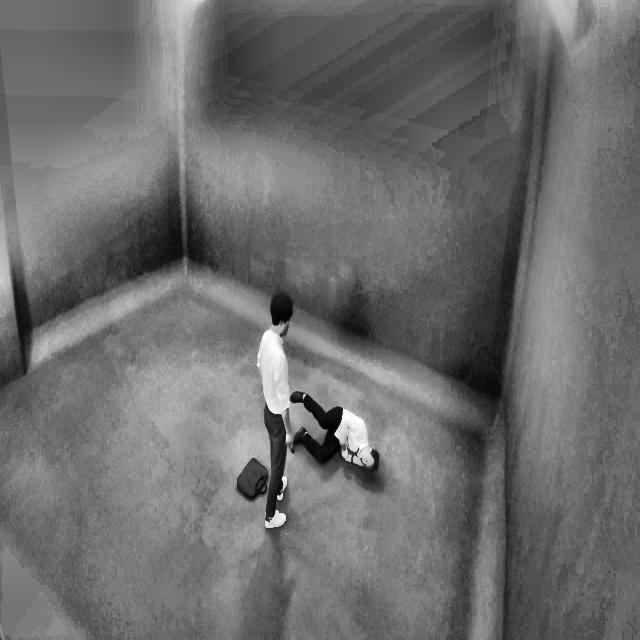assult: (250, 279, 401, 547), (289, 380, 398, 486)
